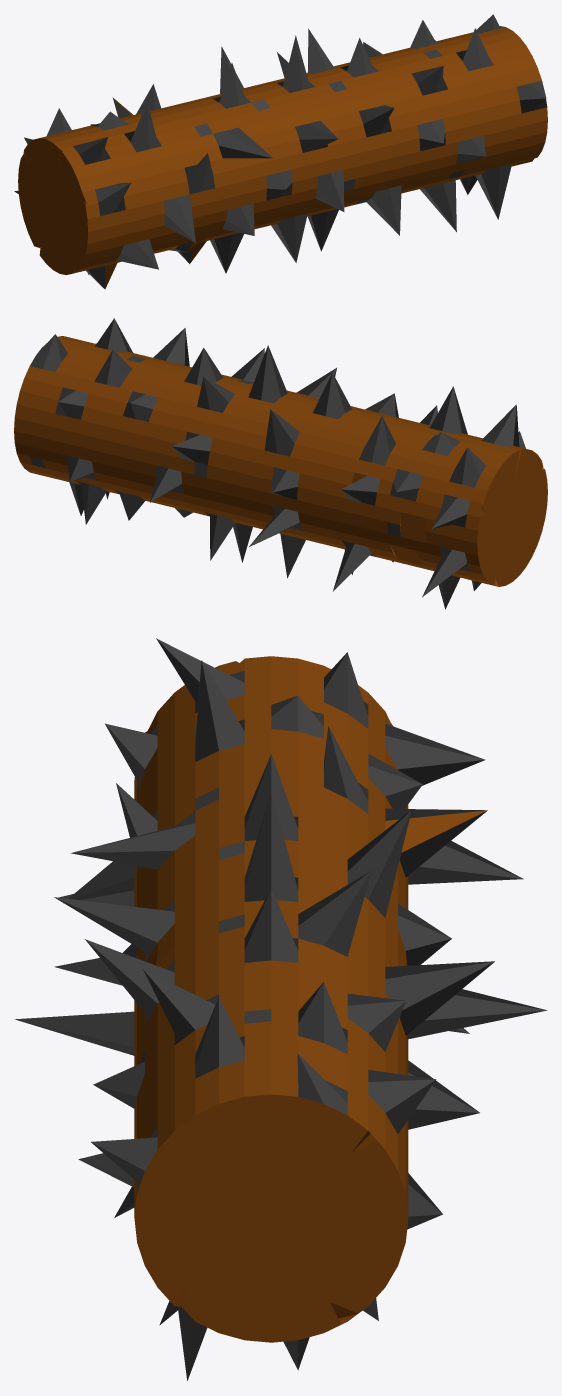
Rendered from log.fbx.
3 renders of one model, top to bottom at view 1: azimuth 30°, elevation 25°; view 2: azimuth 150°, elevation 25°; view 3: azimuth 270°, elevation 25°, orthographic. The views are drawn at different scales.
Parts seen in each view (by area): view 1: Cylinder, Cylinder.003, Cylinder.002, Cylinder.001, Cylinder.006, Cylinder.004; view 2: Cylinder, Cylinder.002, Cylinder.003, Cylinder.006, Cylinder.004; view 3: Cylinder, Cylinder.002, Cylinder.003, Cylinder.001, Cylinder.006.
Part boxes in pixels (<box>): Cylinder: <box>18,27,547,289</box>; Cylinder.003: <box>86,14,547,288</box>; Cylinder.002: <box>14,46,343,269</box>; Cylinder.001: <box>317,170,344,211</box>; Cylinder.006: <box>194,49,464,179</box>; Cylinder.004: <box>340,38,366,77</box>; Cylinder: <box>14,336,547,586</box>; Cylinder.002: <box>172,368,525,597</box>; Cylinder.003: <box>30,318,519,609</box>; Cylinder.006: <box>30,356,400,536</box>; Cylinder.004: <box>197,348,223,385</box>; Cylinder: <box>134,656,487,1342</box>; Cylinder.002: <box>17,638,547,1055</box>; Cylinder.003: <box>78,723,479,1380</box>; Cylinder.001: <box>15,1011,134,1047</box>; Cylinder.006: <box>195,787,408,1045</box>.
Bounding box in the file's own units: 757 × 351 × 390.
